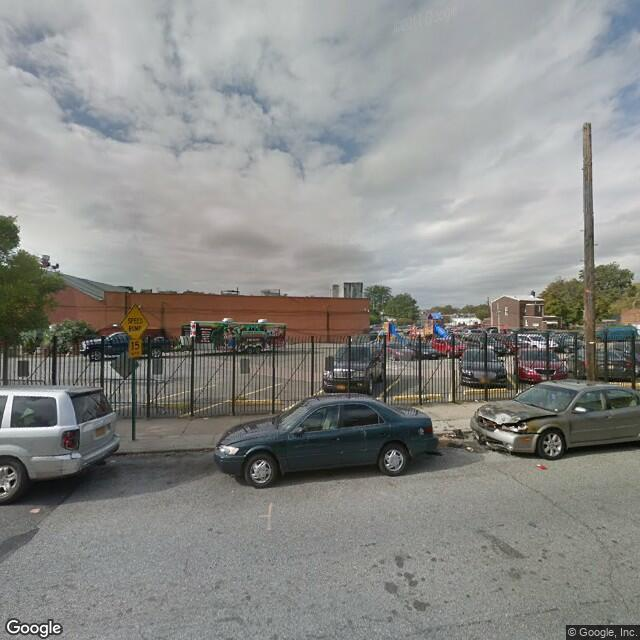litter: (448, 426, 464, 441), (425, 450, 445, 459), (465, 445, 478, 457), (534, 460, 548, 471), (29, 506, 42, 515), (201, 415, 214, 423), (107, 457, 117, 467), (470, 399, 482, 406)
